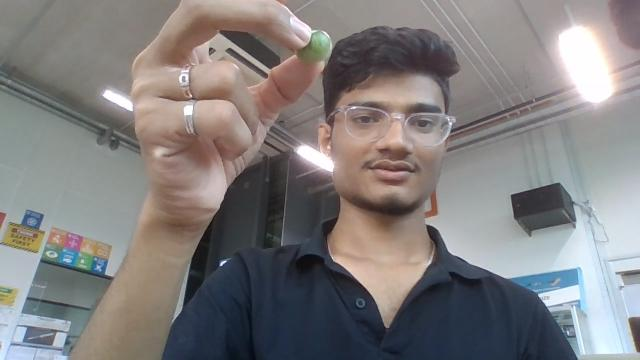Fruit Maturation: (296, 30, 332, 64)
